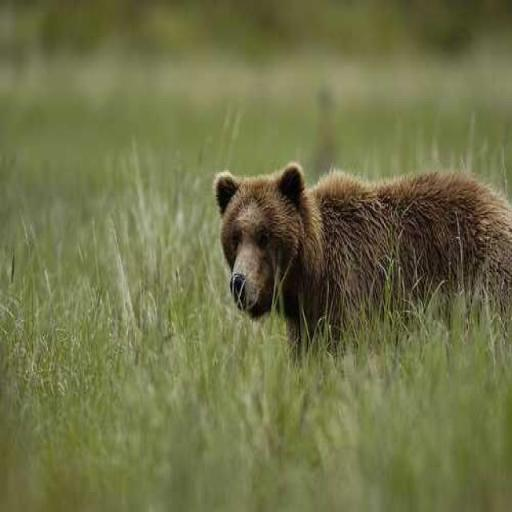Bear: (213, 162, 511, 358)
